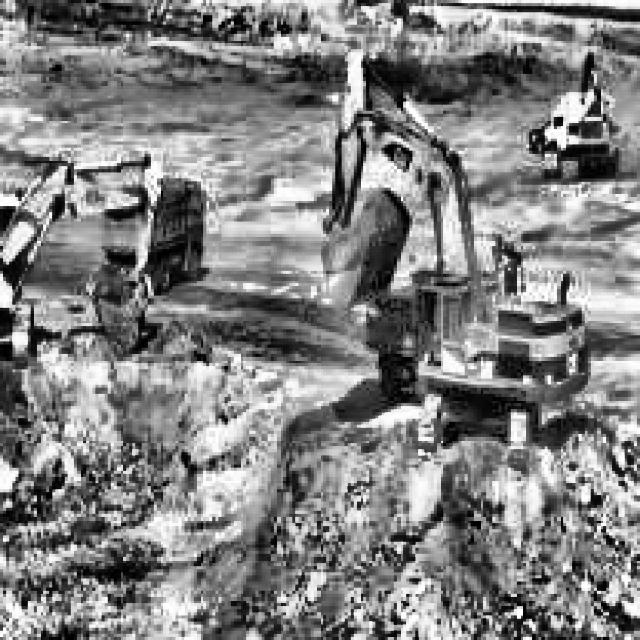dump_truck: (100, 179, 208, 283), (578, 112, 622, 177)
excavator: (316, 36, 590, 484), (0, 151, 169, 391)
